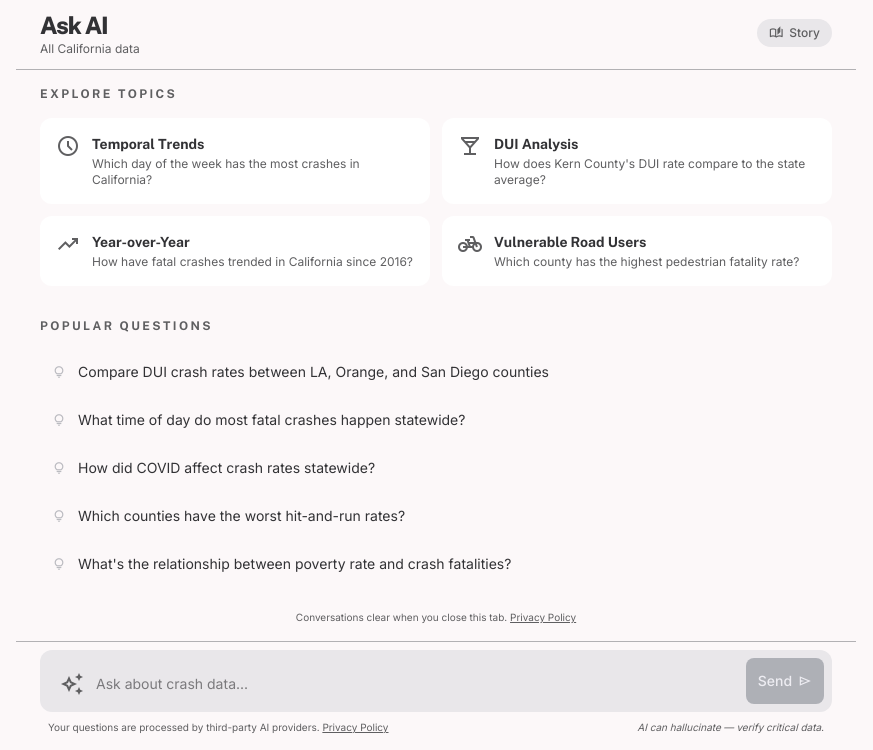
Test: AskAiPage streaming › falls back to the non-streaming endpoint when the stream never starts
In the text box named "ask a question": (415, 684) [84, 664, 746, 704], type "How many crashes in Kern?"
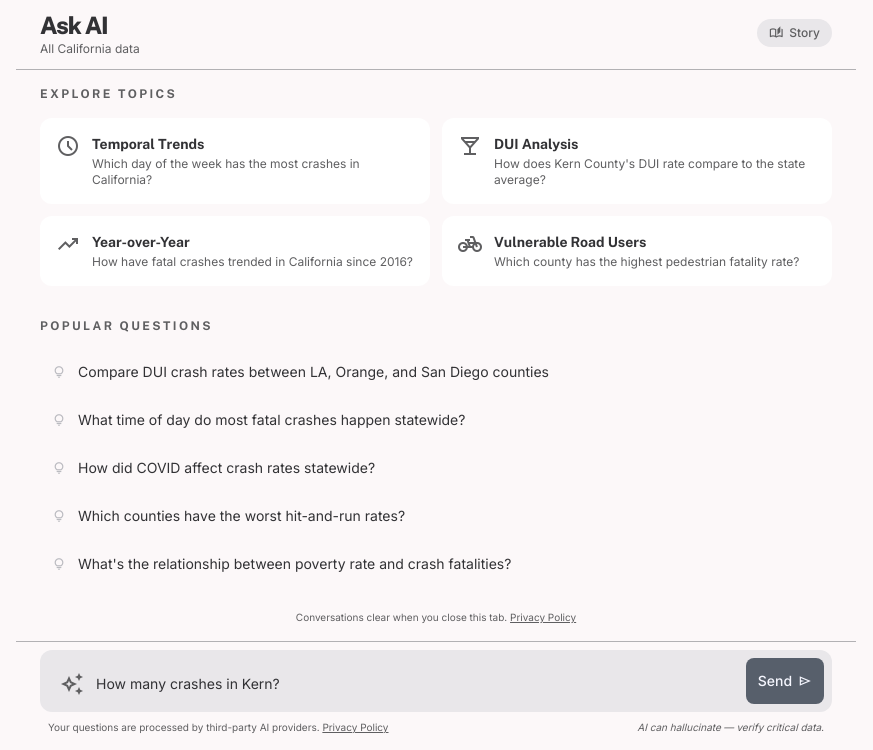
Click the button "Send": (785, 681) [746, 658, 824, 704]
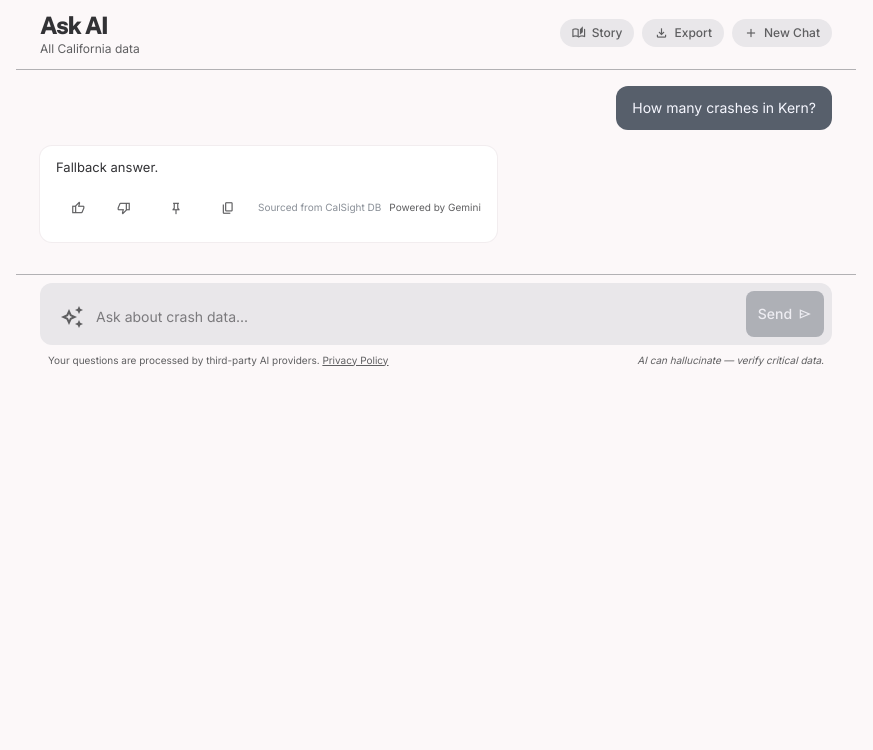
Expected: the text "Fallback answer." is shown, [56, 159, 158, 175]
Expected: the text "Powered by Gemini" is shown, [258, 200, 481, 215]
